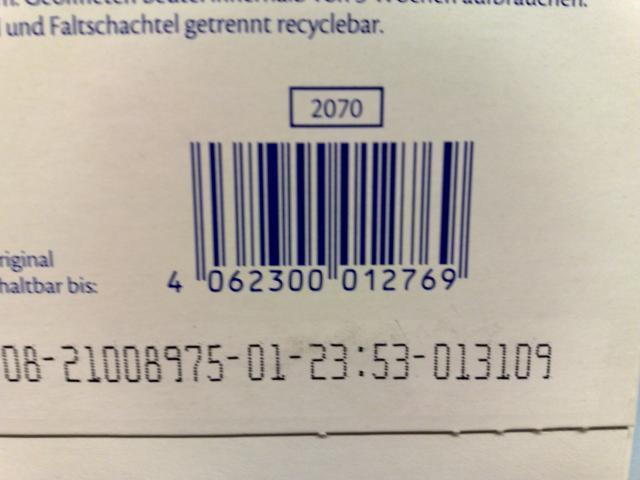Barcode: (160, 136, 481, 302)
